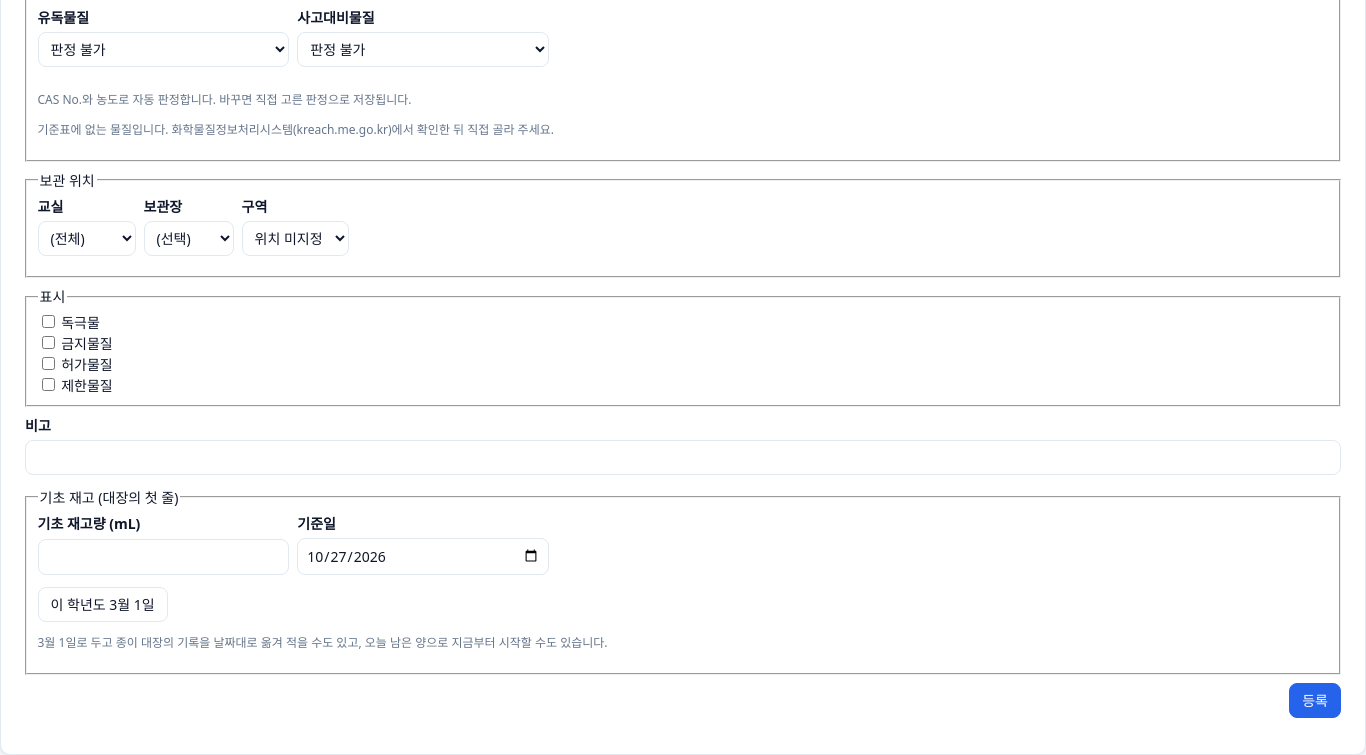
Test case: new reagent › the start date defaults to today and has a 3월 1일 shortcut
(page scrolled)
Expected: the date field labelled "기준일" holds "2026-10-27", [297,538,549,575]
Click the button "이 학년도 3월 1일" at (103, 604), box [38,587,168,622]
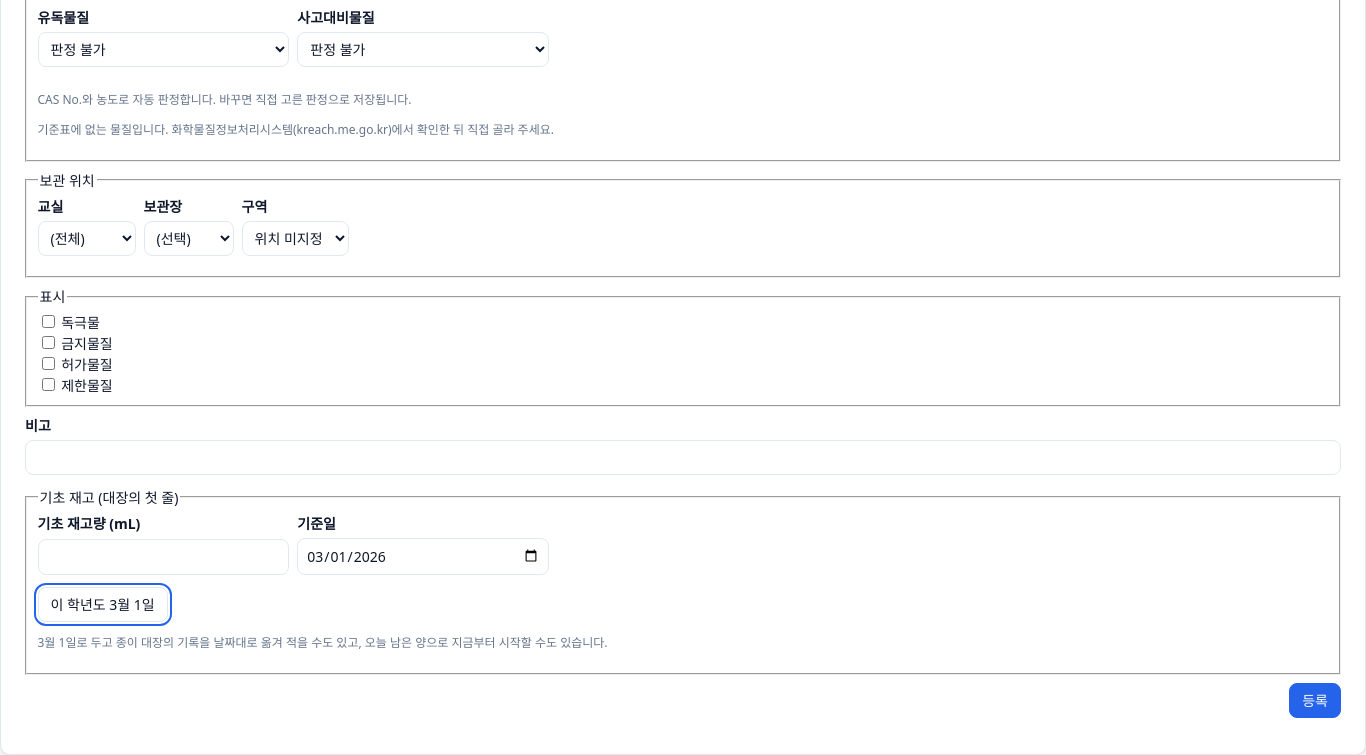
Expected: the date field labelled "기준일" holds "2026-03-01", [297,538,549,575]
